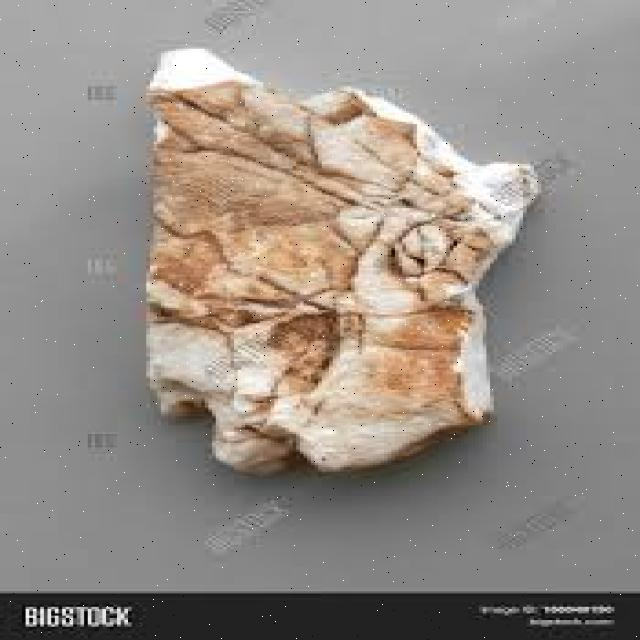Metamorphic: (132, 46, 556, 468)
